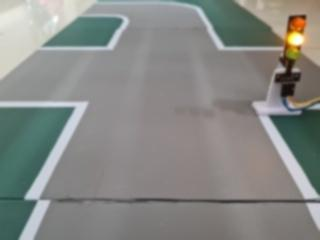yellow: (270, 6, 320, 72)
